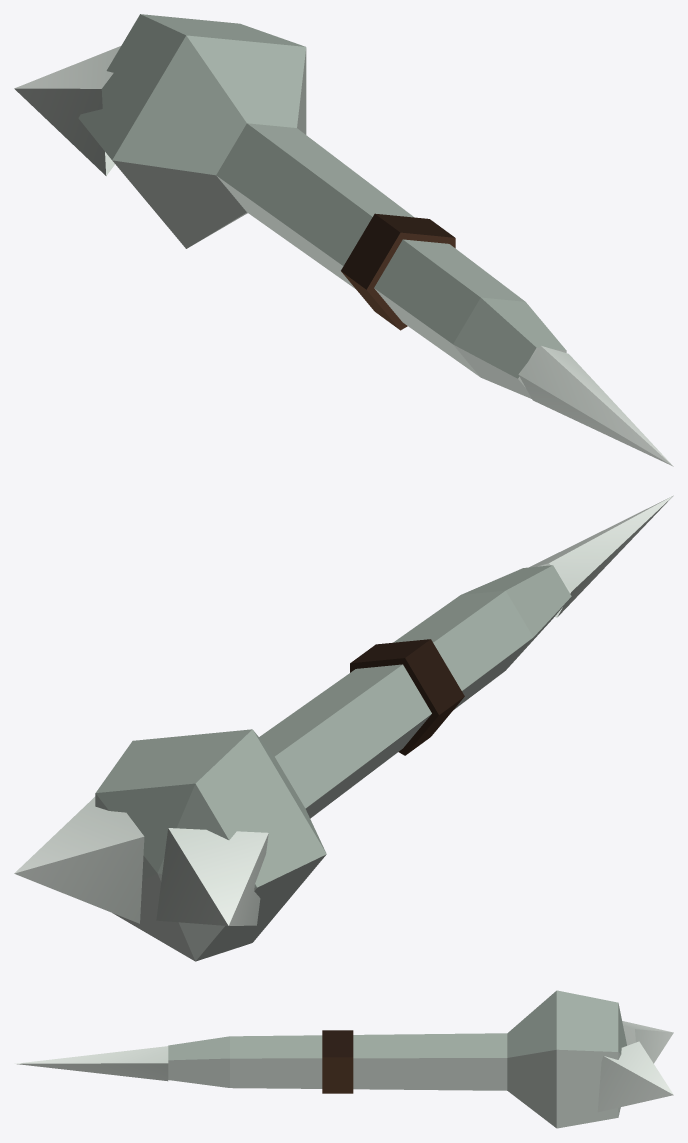
Rendered from ammo_bone.gltf.
3 renders of one model, top to bottom at view 1: azimuth 30°, elevation 25°; view 2: azimuth 150°, elevation 25°; view 3: azimuth 270°, elevation 25°, orthographic. The views are drawn at different scales.
Visible parts, largest first — view 1: ammo_bone; view 2: ammo_bone; view 3: ammo_bone.
Part boxes in pixels (x1,y1,x2,y2): ammo_bone: (14,14,673,466); ammo_bone: (14,495,673,961); ammo_bone: (14,990,673,1128).
Bounding box in the file's own units: 0.24 × 0.2283 × 1.07.
1 material, 1 textured.
